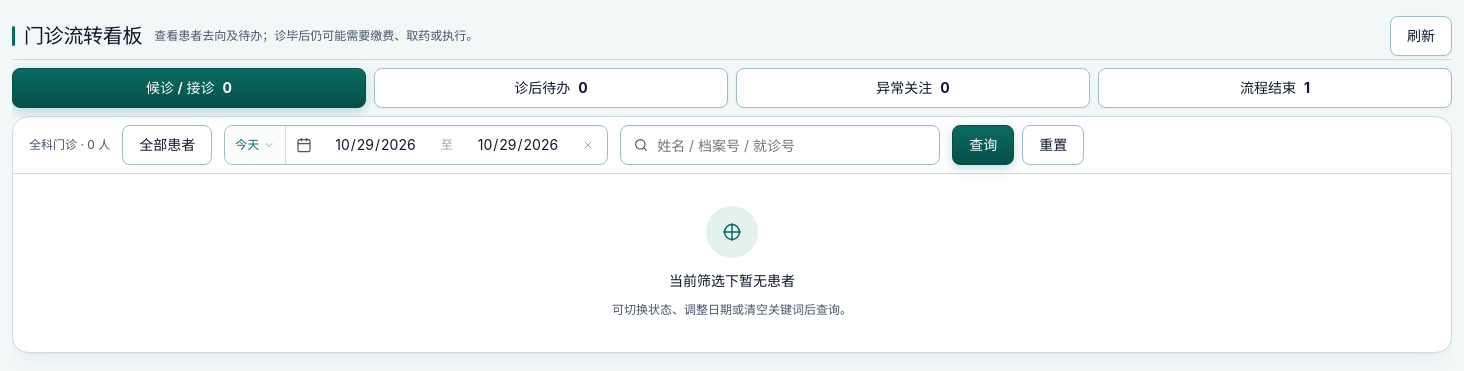
Scenario: OutpatientFlowWorkspace composite visit › shows the actual pharmacy outcome COMPLETED after downstream processing ends
Click the button "流程结束 1": x=1275, y=88 [1098, 68, 1452, 108]
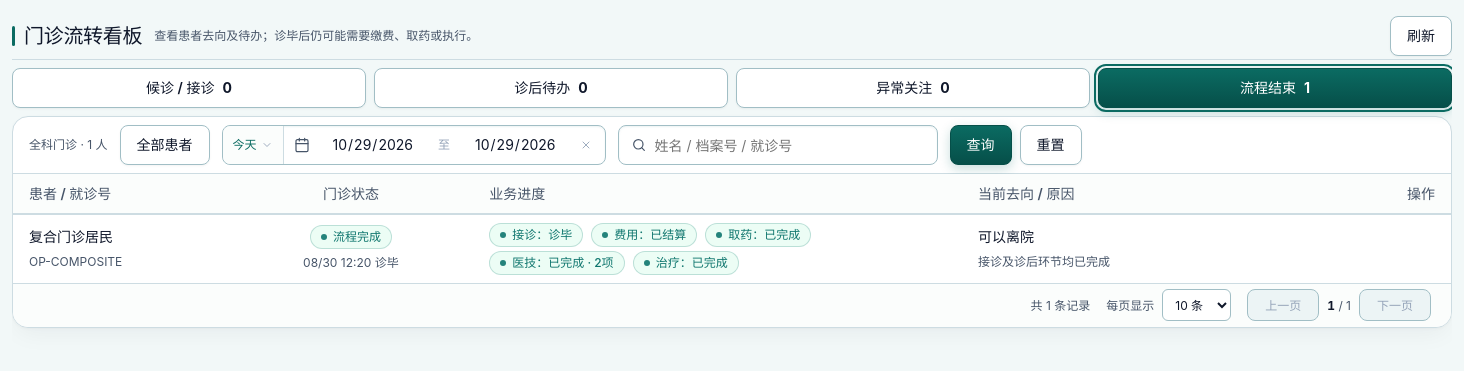
Check: the row "复合门诊居民" shows "接诊：诊毕", box [13, 214, 1451, 283]
Check: the row "复合门诊居民" shows "费用：已结算", box [13, 214, 1451, 283]
Check: the row "复合门诊居民" shows "医技：已完成 · 2项", box [13, 214, 1451, 283]
